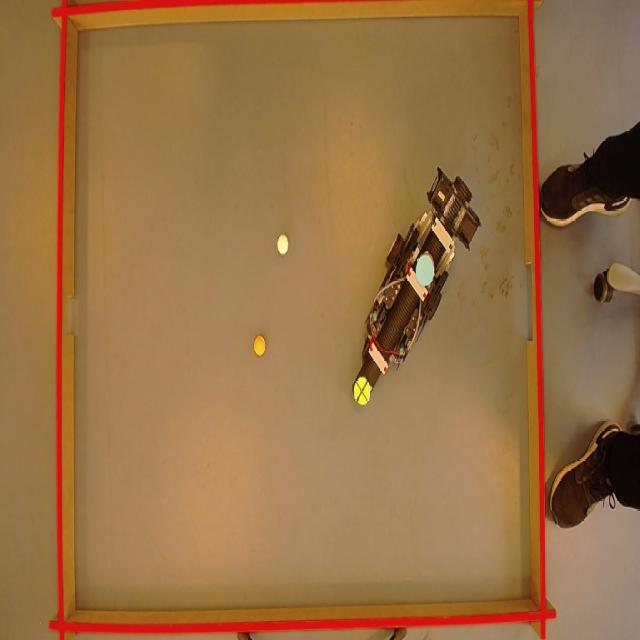orange: (254, 335, 267, 355)
robot: (352, 162, 484, 408)
robot-front: (354, 375, 371, 406)
robot-rear: (414, 251, 434, 286)
white: (274, 234, 288, 254)
